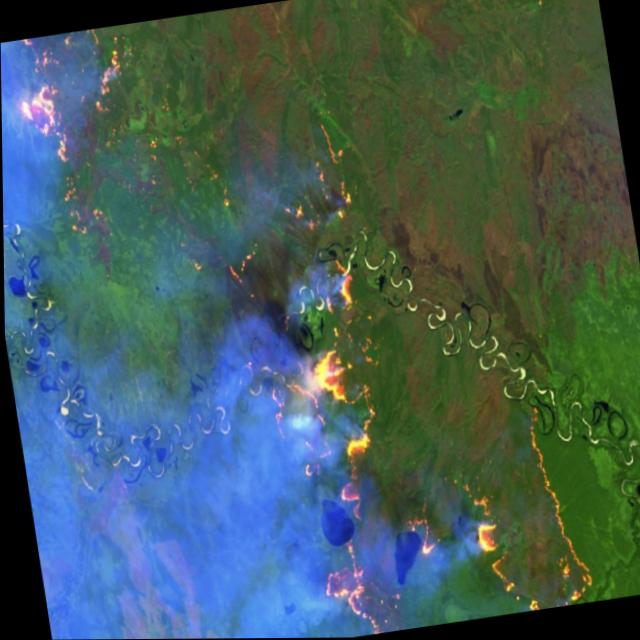fire: (431, 381, 602, 622), (293, 460, 440, 638), (252, 338, 391, 484), (4, 25, 133, 182), (321, 249, 375, 334)
